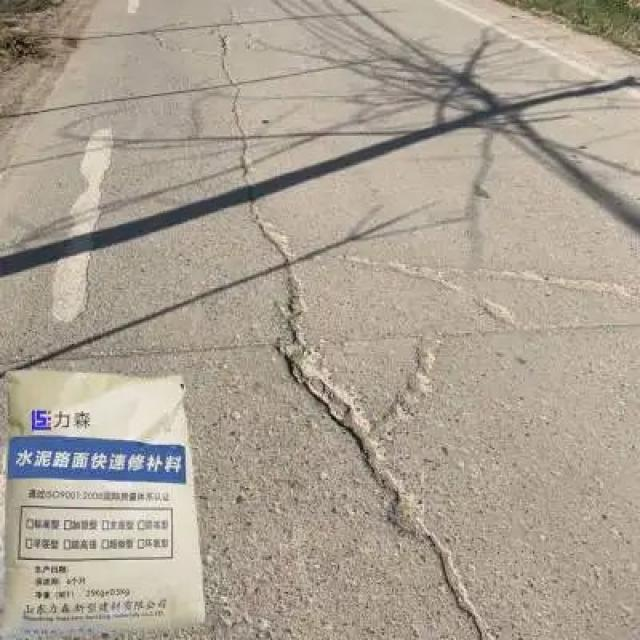Pothole: (214, 57, 524, 638)
